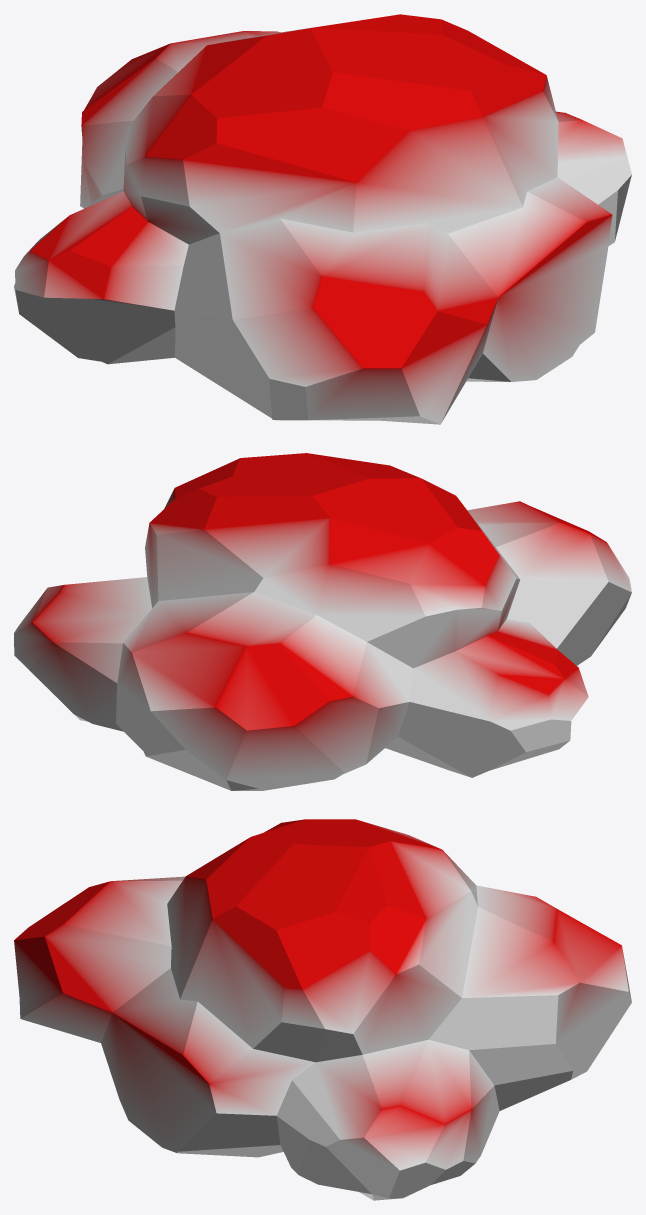
Rendered from Buisson V2.fbx.
The picture shows the model from 3 angles, top to bottom: view 1: azimuth 30°, elevation 25°; view 2: azimuth 150°, elevation 25°; view 3: azimuth 270°, elevation 25°; orthographic projection. The views are drawn at different scales.
Visible parts, largest first — view 1: Feuilles.001; view 2: Feuilles.001; view 3: Feuilles.001.
Boxes of the visible parts, x1,y1,x2,y2 form: Feuilles.001: (14,14,631,424); Feuilles.001: (14,453,631,790); Feuilles.001: (14,819,631,1200).
Bounding box in the file's own units: 3.28 × 1.51 × 3.27.
